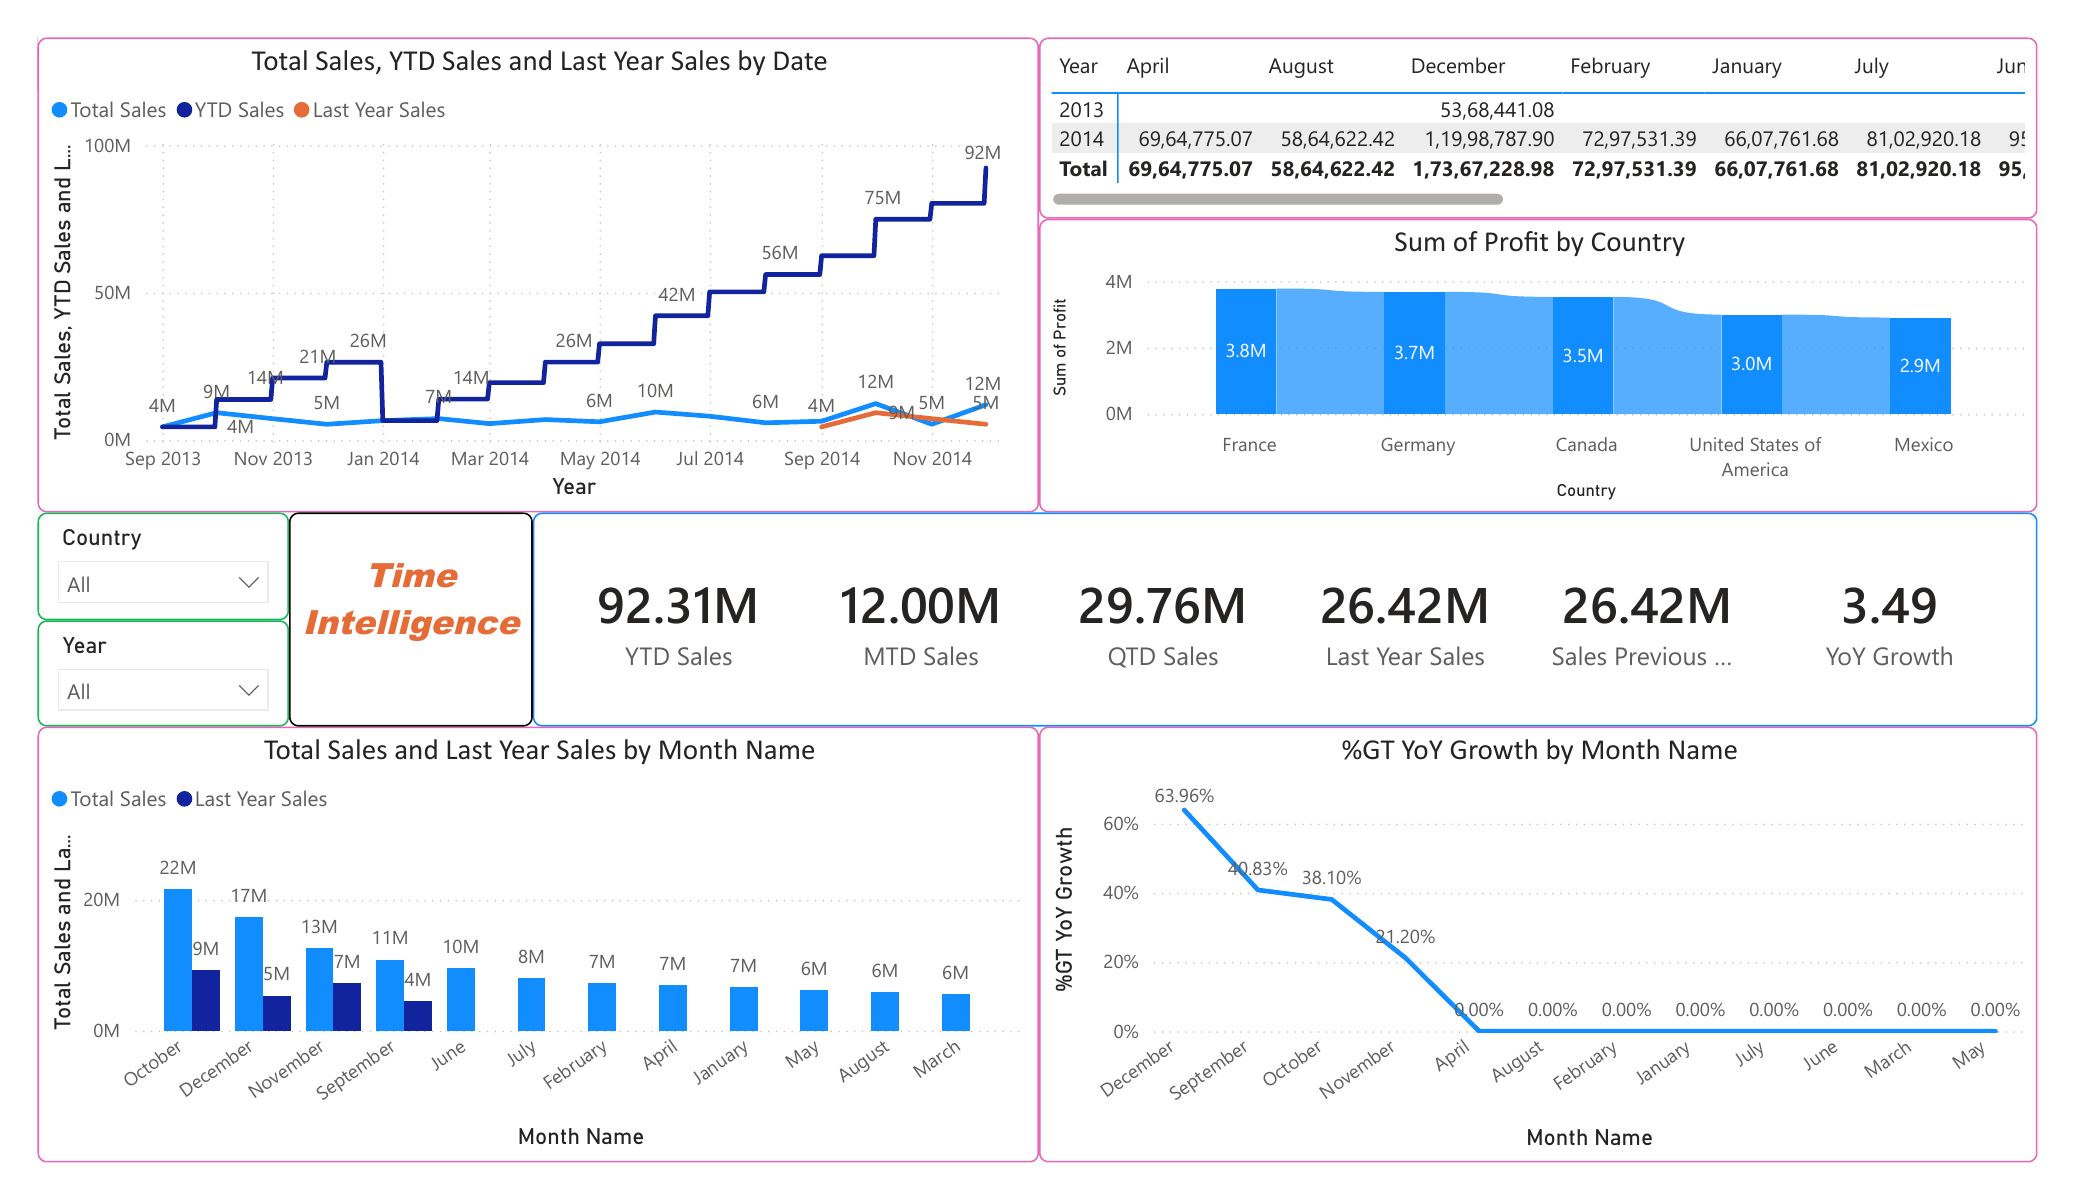

The dashboard page shown, as its layout file describes it:
{"tool":"powerbi","page":{"name":"Time Intelligence","canvas":[1280,720],"ordinal":2},"visuals":[{"type":"cardVisual","title":"SUM()","fields":{"Data":["Measure.YTD Sales","Measure.MTD Sales","Measure.QTD Sales","Measure.Last Year Sales","Measure.Sales Previous Year","Measure.YoY Growth"]},"box":[316.6,304.2,963.4,136.6],"z":0},{"type":"slicer","fields":{"Values":["financials.Year"]},"box":[0,372.5,161.4,68.3],"z":1000},{"type":"slicer","fields":{"Values":["financials.Country"]},"box":[0,304.2,161.4,68.3],"z":2000},{"type":"lineChart","title":"Total Sales, YTD Sales and Last Year Sales by Date","fields":{"Category":["Date Table.Date.Variation.Date Hierarchy.Year","Date Table.Date.Variation.Date Hierarchy.Quarter","Date Table.Date.Variation.Date Hierarchy.Month","Date Table.Date.Variation.Date Hierarchy.Day"],"Y":["Measure.Total Sales","Measure.YTD Sales","Measure.Last Year Sales"]},"box":[0,0,640.5,304.2],"z":3000},{"type":"lineChart","fields":{"Category":["financials.Month Name"],"Y":["Measure.YoY Growth"]},"box":[640.5,440.8,639.5,279.4],"z":4000},{"type":"clusteredColumnChart","fields":{"Category":["financials.Month Name"],"Y":["Measure.Total Sales","Measure.Last Year Sales"]},"box":[0,440.8,640.5,279.4],"z":5000},{"type":"ribbonChart","fields":{"Category":["financials.Country"],"Y":["Sum(financials.Profit)"]},"box":[640.5,115.9,639.5,188.3],"z":6000},{"type":"pivotTable","fields":{"Rows":["financials.Year"],"Columns":["financials.Month Name"],"Values":["Measure.Total Sales"]},"box":[640.5,0,639.5,115.9],"z":7000},{"type":"textbox","box":[161.4,304.2,155.2,136.6],"z":7001}]}

Visuals, with their boxes on the page's 1280x720 design canvas (x1, y1, x2, y2). These are canvas units, not pixel positions in the 2075x1200 screenshot, which may show the page scaled, cropped or inside an application window:
"SUM()" cardVisual: [left=317, top=304, right=1280, bottom=441]
slicer - financials.Year: [left=0, top=372, right=161, bottom=441]
slicer - financials.Country: [left=0, top=304, right=161, bottom=372]
"Total Sales, YTD Sales and Last Year Sales by Date" lineChart: [left=0, top=0, right=640, bottom=304]
lineChart - financials.Month Name x Measure.YoY Growth: [left=640, top=441, right=1280, bottom=720]
clusteredColumnChart - financials.Month Name x Measure.Total Sales: [left=0, top=441, right=640, bottom=720]
ribbonChart - financials.Country x Sum(financials.Profit): [left=640, top=116, right=1280, bottom=304]
pivotTable - financials.Year x financials.Month Name: [left=640, top=0, right=1280, bottom=116]
textbox: [left=161, top=304, right=317, bottom=441]
